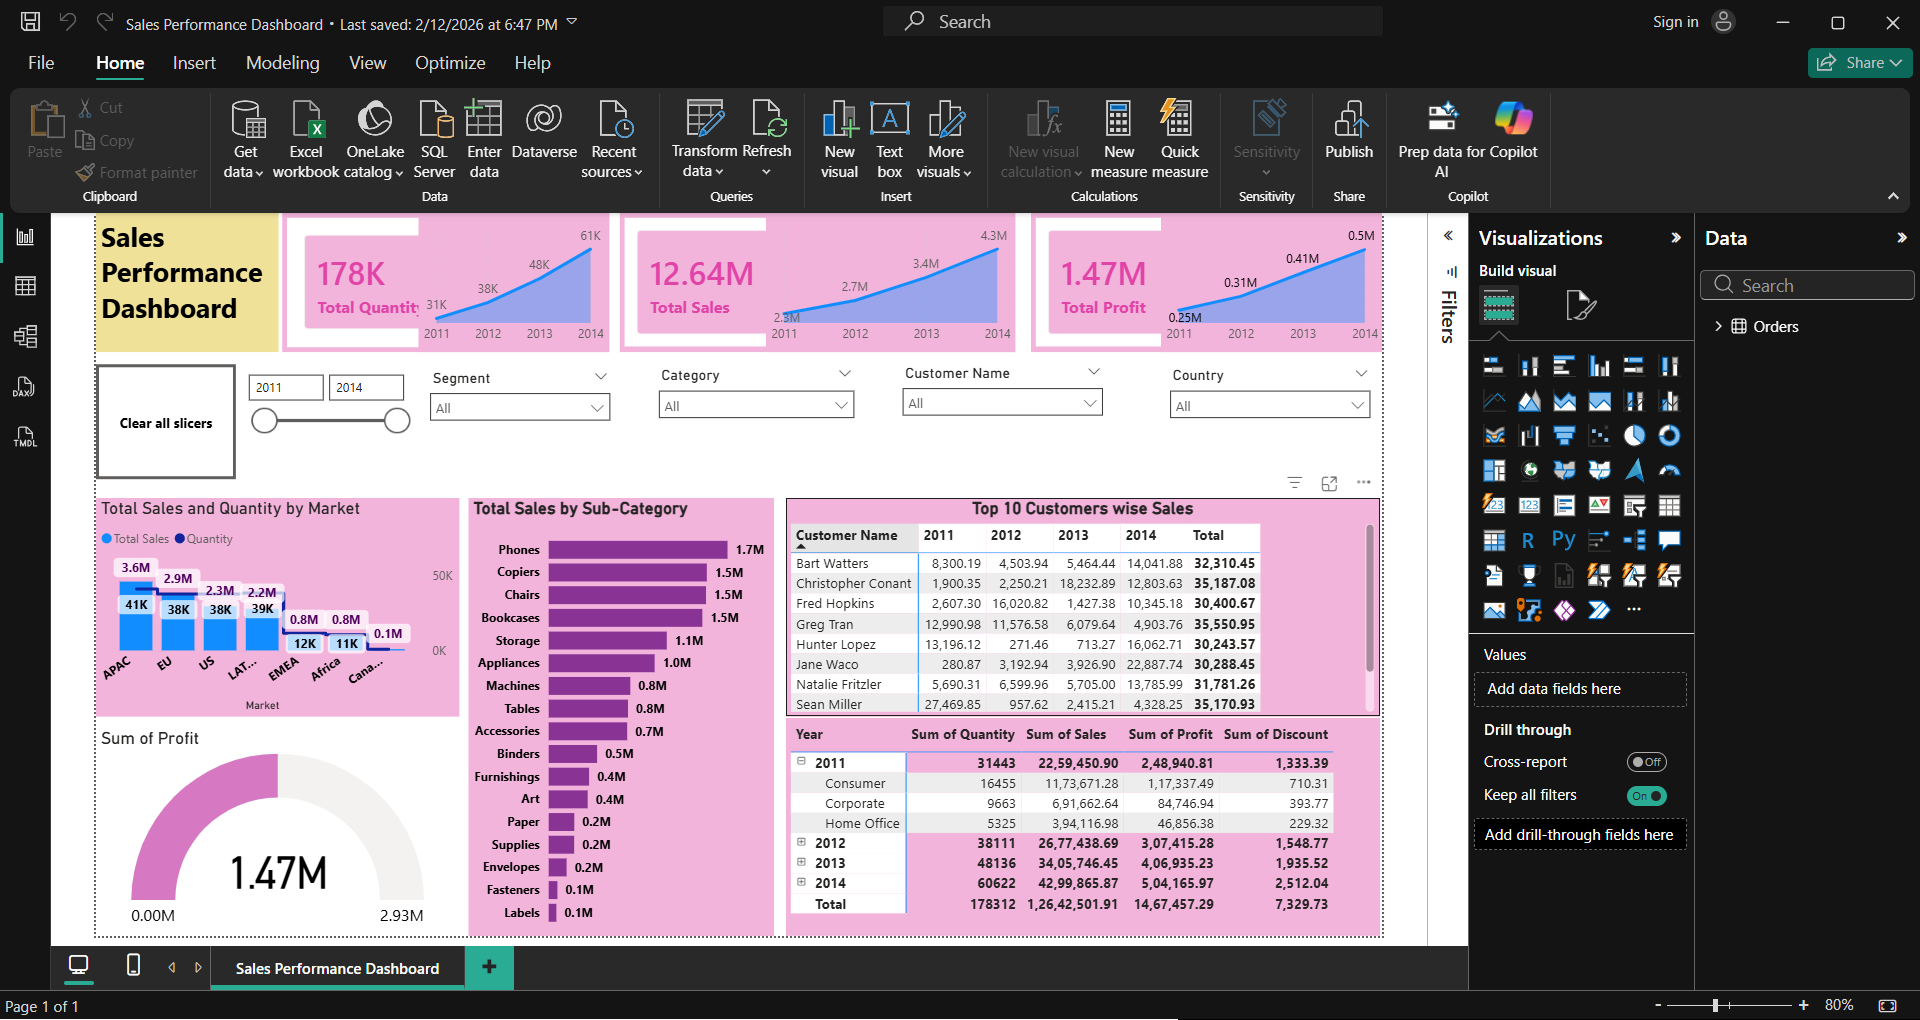

What the dashboard file says about the page in this screenshot:
{"tool":"powerbi","page":{"name":"Sales Performance Dashboard","canvas":[1280,720],"ordinal":0},"visuals":[{"type":"textbox","box":[0,0,181.6,138.1],"z":0},{"type":"cardVisual","fields":{"Data":["Sum(Orders.Profit)"]},"box":[930.4,0,349.9,138.6],"z":1000},{"type":"areaChart","fields":{"Y":["Sum(Orders.Profit)"],"Category":["Orders.Order Date.Variation.Date Hierarchy.Year"]},"box":[1059.4,0,220.9,138.6],"z":2000},{"type":"cardVisual","fields":{"Data":["Sum(Orders.Quantity)"]},"box":[185.2,0,325.2,138.6],"z":3000},{"type":"areaChart","fields":{"Category":["Orders.Order Date.Variation.Date Hierarchy.Year"],"Y":["Sum(Orders.Quantity)"]},"box":[321.1,0,189.4,138.6],"z":4000},{"type":"cardVisual","fields":{"Data":["Sum(Orders.Sales)"]},"box":[521.4,0,393.8,138.6],"z":5000},{"type":"areaChart","fields":{"Category":["Orders.Order Date.Variation.Date Hierarchy.Year"],"Y":["Sum(Orders.Sales)"]},"box":[666.9,0,248.4,138.6],"z":6000},{"type":"slicer","fields":{"Values":["Orders.Segment"]},"box":[322,150.8,199.4,115],"z":7000},{"type":"slicer","fields":{"Values":["Orders.Category"]},"box":[549.5,148.2,214.7,120.1],"z":8000},{"type":"slicer","fields":{"Values":["Orders.Customer Name"]},"box":[792.3,145.7,219.8,120.1],"z":9000},{"type":"slicer","fields":{"Values":["Orders.Country"]},"box":[1058.2,148.2,219.8,122.7],"z":10000},{"type":"slicer","fields":{"Values":["Orders.Order Date.Variation.Date Hierarchy.Year"]},"box":[139.3,150.5,181.6,120.7],"z":11000},{"type":"lineClusteredColumnComboChart","fields":{"Category":["Orders.Market"],"Y":["Sum(Orders.Sales)"],"Y2":["Sum(Orders.Quantity)"]},"box":[0,283.6,362,217.7],"z":12000},{"type":"gauge","fields":{"Y":["Sum(Orders.Profit)"]},"box":[0,512,362,208],"z":13000},{"type":"clusteredBarChart","fields":{"Category":["Orders.Sub-Category"],"Y":["Sum(Orders.Sales)"]},"box":[370.2,284,304.3,436.1],"z":14000},{"type":"pivotTable","title":"Top 10 Customers wise Sales","fields":{"Rows":["Orders.Customer Name"],"Columns":["Orders.Order Date.Variation.Date Hierarchy.Year"],"Values":["Sum(Orders.Sales)"]},"box":[686.7,283.6,590.9,217.7],"z":15000},{"type":"pivotTable","fields":{"Values":["Sum(Orders.Quantity)","Sum(Orders.Sales)","Sum(Orders.Profit)","Sum(Orders.Discount)"],"Rows":["Orders.Order Date.Variation.Date Hierarchy.Year","Orders.Segment"]},"box":[687,503,591,217],"z":16000},{"type":"actionButton","box":[0,150.5,139.3,114.4],"z":17000}]}

Visuals, with their boxes on the page's 1280x720 design canvas (x1, y1, x2, y2). These are canvas units, not pixel positions in the 1920x1020 screenshot, which may show the page scaled, cropped or inside an application window:
textbox: region(0, 0, 182, 138)
cardVisual - Sum(Orders.Profit): region(930, 0, 1280, 139)
areaChart - Sum(Orders.Profit) x Orders.Order Date.Variation.Date Hierarchy.Year: region(1059, 0, 1280, 139)
cardVisual - Sum(Orders.Quantity): region(185, 0, 510, 139)
areaChart - Orders.Order Date.Variation.Date Hierarchy.Year x Sum(Orders.Quantity): region(321, 0, 510, 139)
cardVisual - Sum(Orders.Sales): region(521, 0, 915, 139)
areaChart - Orders.Order Date.Variation.Date Hierarchy.Year x Sum(Orders.Sales): region(667, 0, 915, 139)
slicer - Orders.Segment: region(322, 151, 521, 266)
slicer - Orders.Category: region(550, 148, 764, 268)
slicer - Orders.Customer Name: region(792, 146, 1012, 266)
slicer - Orders.Country: region(1058, 148, 1278, 271)
slicer - Orders.Order Date.Variation.Date Hierarchy.Year: region(139, 150, 321, 271)
lineClusteredColumnComboChart - Orders.Market x Sum(Orders.Sales): region(0, 284, 362, 501)
gauge - Sum(Orders.Profit): region(0, 512, 362, 720)
clusteredBarChart - Orders.Sub-Category x Sum(Orders.Sales): region(370, 284, 674, 720)
"Top 10 Customers wise Sales" pivotTable: region(687, 284, 1278, 501)
pivotTable - Sum(Orders.Quantity) x Sum(Orders.Sales): region(687, 503, 1278, 720)
actionButton: region(0, 150, 139, 265)
